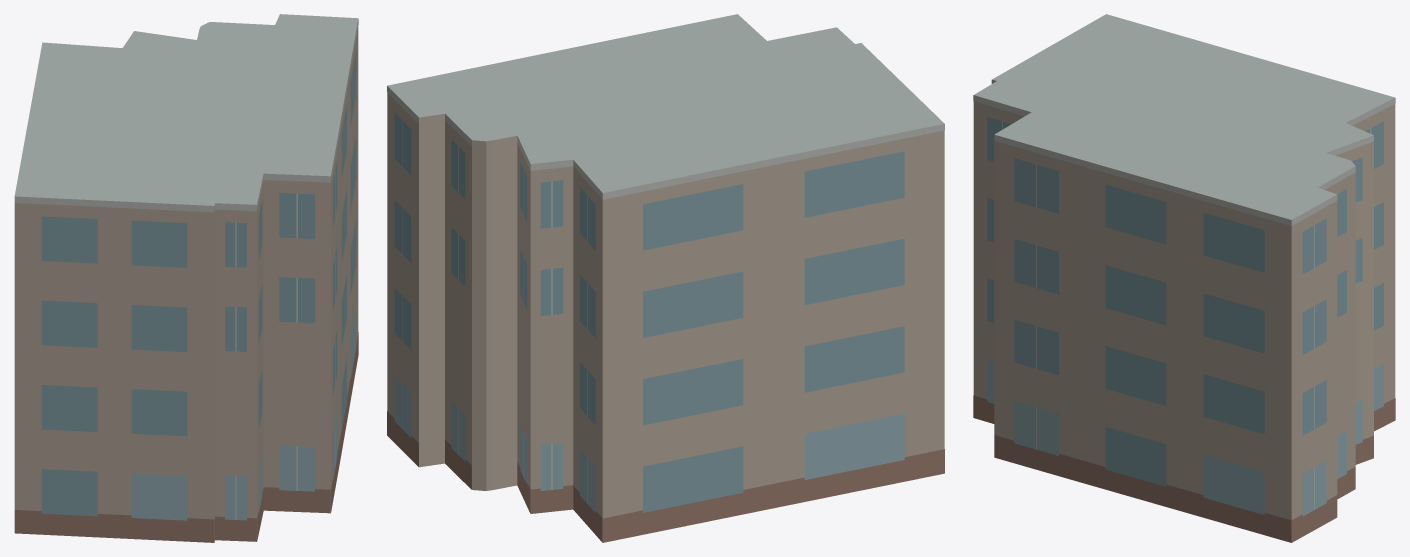
Rendered from survey-upis-32670175.glb.
The picture shows the model from 3 angles, left to right: view 1: azimuth 30°, elevation 25°; view 2: azimuth 150°, elevation 25°; view 3: azimuth 270°, elevation 25°; orthographic projection. The views are drawn at different scales.
Parts seen in each view (by area): view 1: survey-upis-32670175.tmp; view 2: survey-upis-32670175.tmp; view 3: survey-upis-32670175.tmp.
Boxes of the visible parts, x1,y1,x2,y2 form: survey-upis-32670175.tmp: [14, 14, 358, 542]; survey-upis-32670175.tmp: [387, 14, 944, 542]; survey-upis-32670175.tmp: [973, 14, 1395, 542].
Size of the model in its own units: 17.52 by 12.8 by 15.16.
